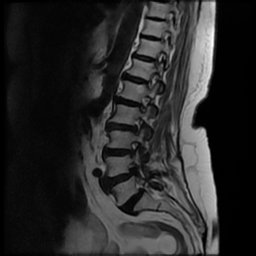LFS0: (131, 91, 153, 114)
LFS2: (122, 137, 144, 161), (127, 114, 149, 137)
